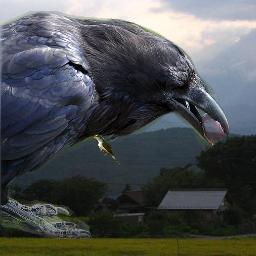Crow: (0, 11, 231, 239)
Cuckoo: (93, 134, 120, 165)
